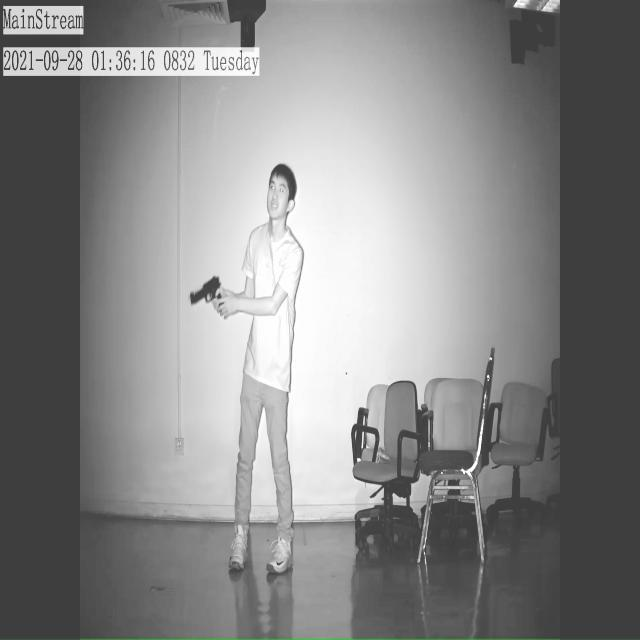Gun: (175, 267, 241, 311)
